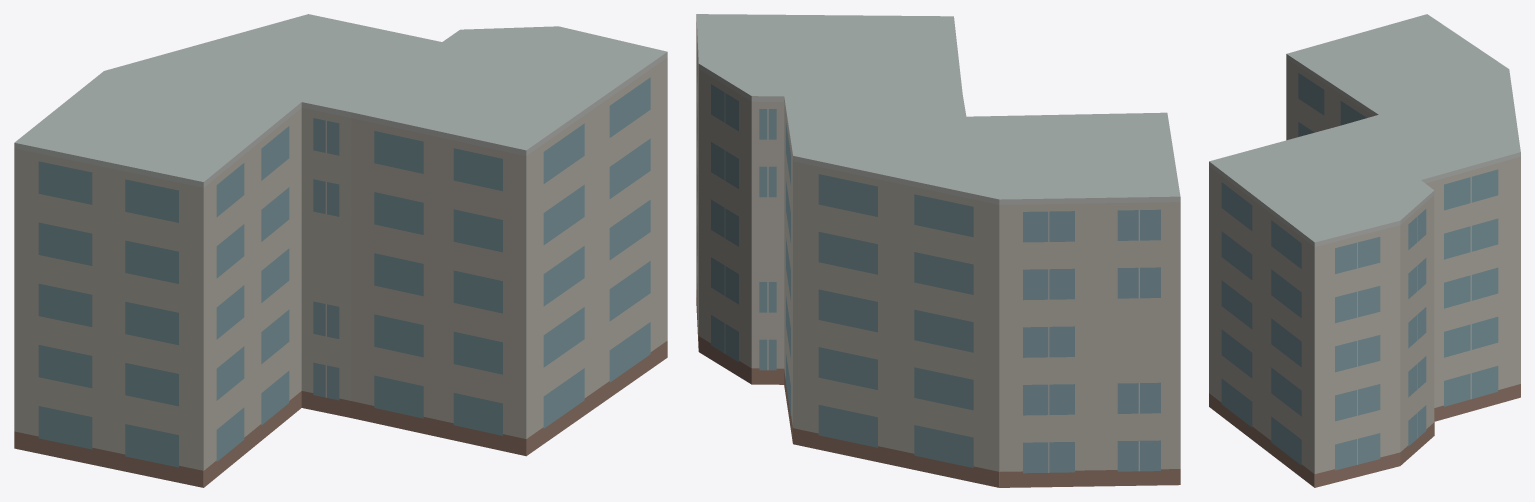
The model's file is survey-upis-32686733.glb.
3 views of the same model, side by side, from view 1: azimuth 30°, elevation 25°; view 2: azimuth 150°, elevation 25°; view 3: azimuth 270°, elevation 25° (orthographic). The views are drawn at different scales.
Parts seen in each view (by area): view 1: survey-upis-32686733.tmp; view 2: survey-upis-32686733.tmp; view 3: survey-upis-32686733.tmp.
Boxes of the visible parts, x1,y1,x2,y2 form: survey-upis-32686733.tmp: (14,14,667,487); survey-upis-32686733.tmp: (696,14,1180,487); survey-upis-32686733.tmp: (1209,14,1520,487).
Size of the model in its own units: 26.24 by 13.14 by 15.14.
